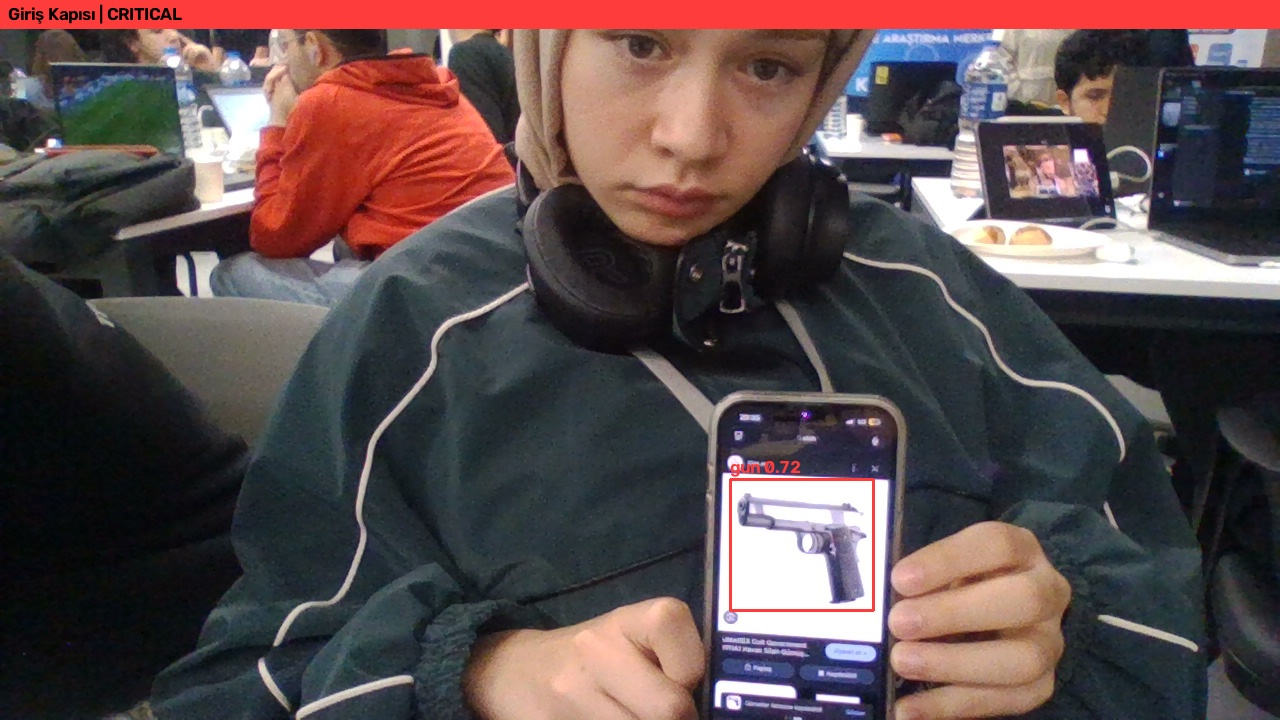weapon: (730, 478, 872, 611)
